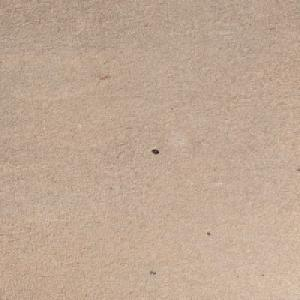Nut: (150, 148, 158, 153)
